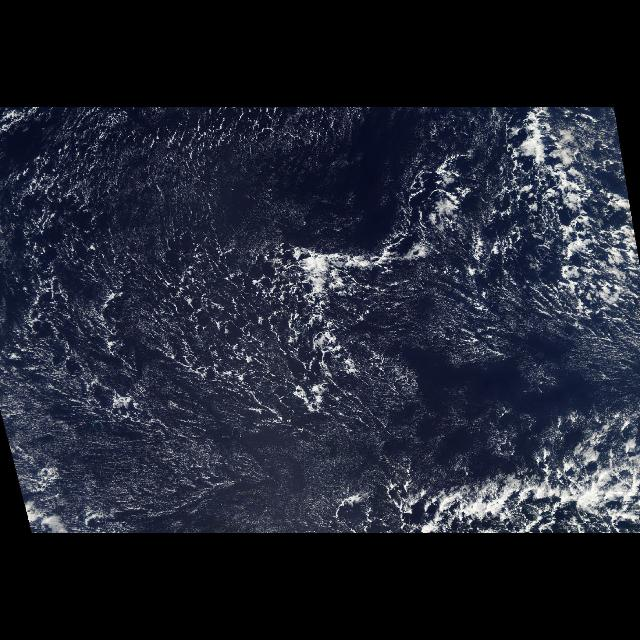Gravel: (4, 110, 422, 526), (434, 111, 630, 359)
Sugar: (46, 404, 384, 534), (54, 116, 384, 238)
